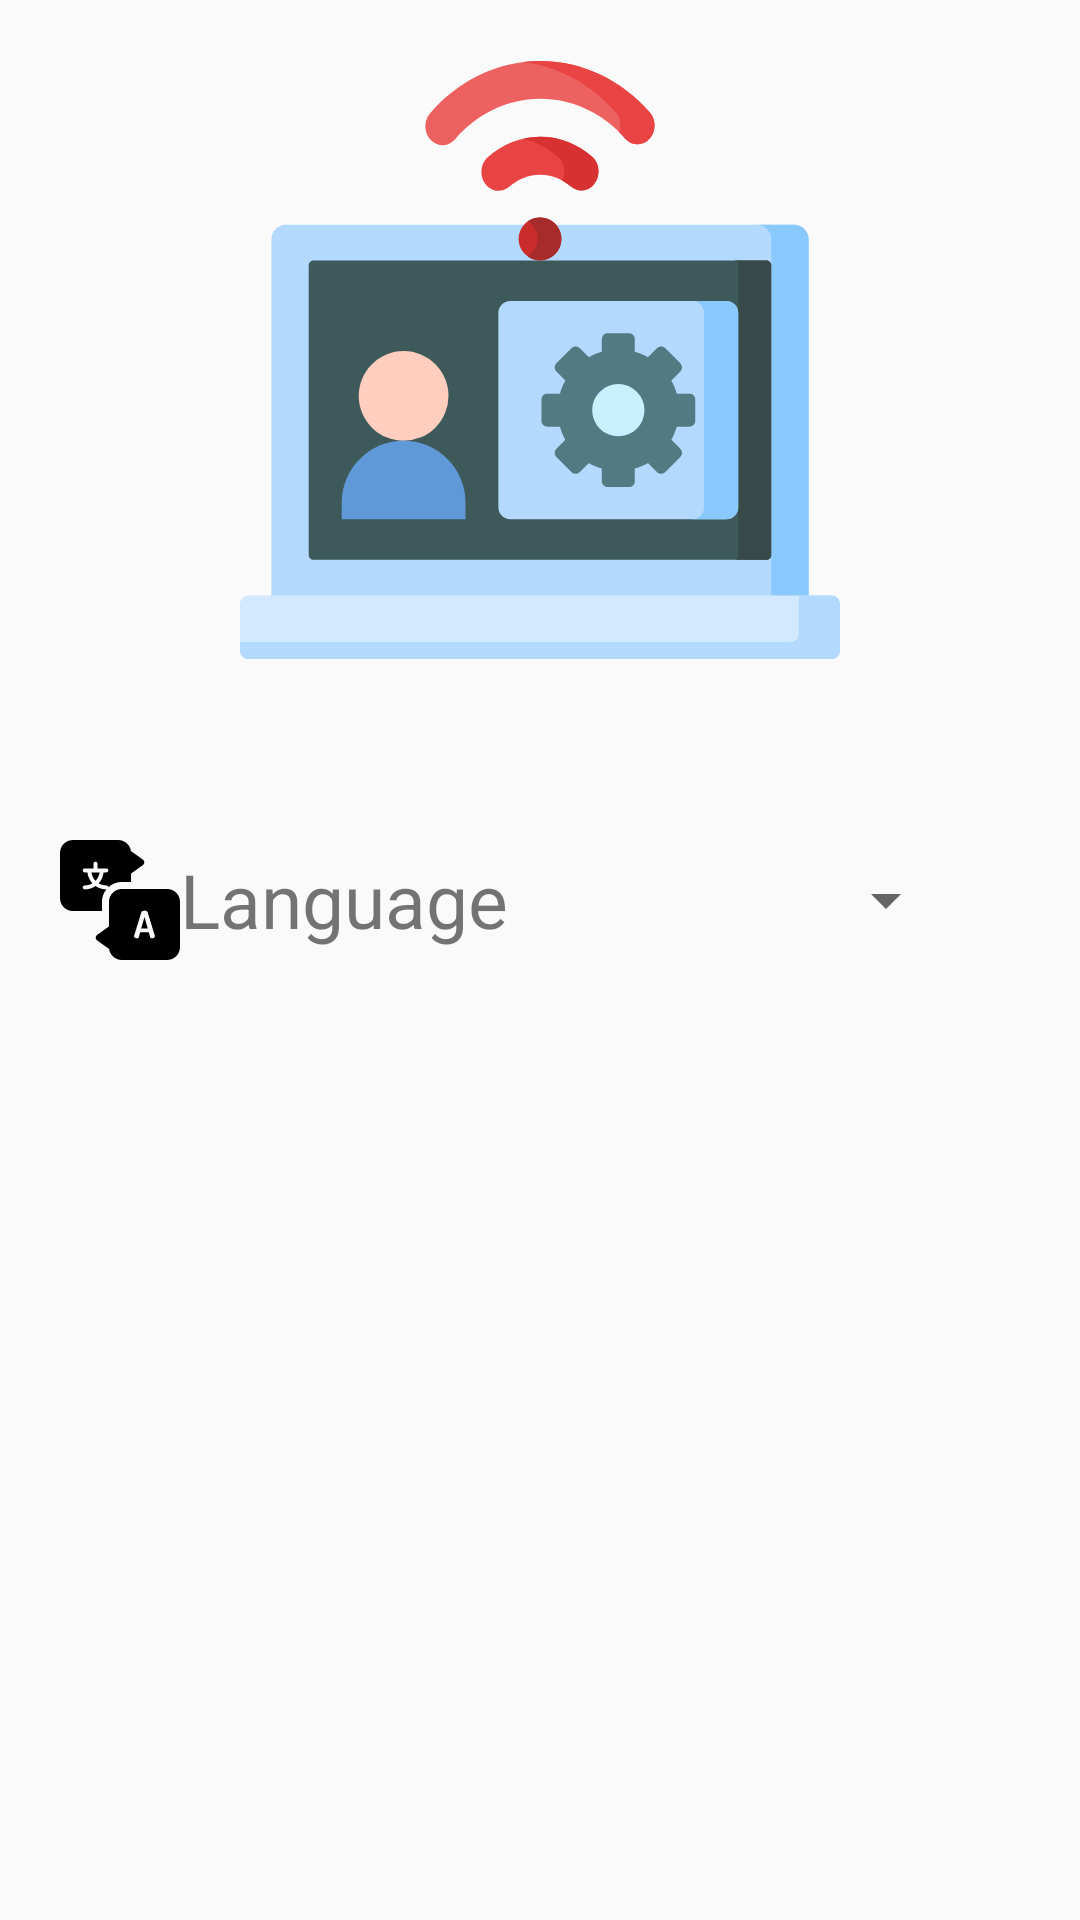

Where icons sit on this 1080x1920 app screen, as (x1, y1, x2, y2):
translate: (60, 840, 180, 960)
